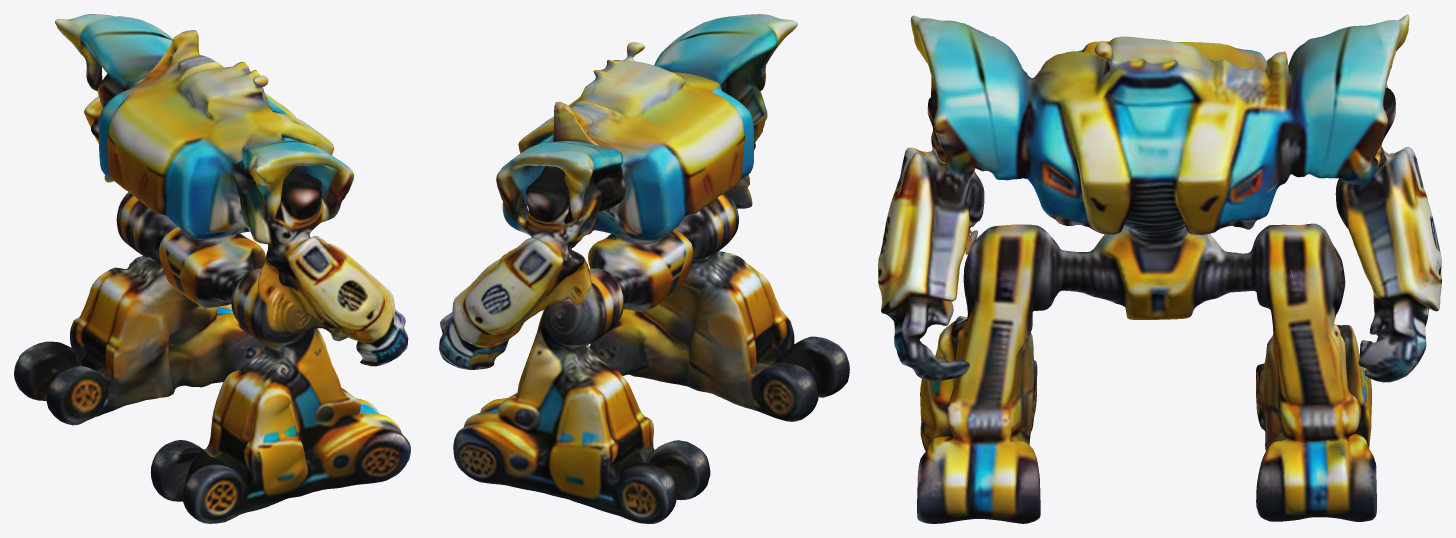
The picture shows the model from 3 angles, left to right: view 1: azimuth 30°, elevation 25°; view 2: azimuth 150°, elevation 25°; view 3: azimuth 270°, elevation 25°; orthographic projection. The views are drawn at different scales.
Visible parts, largest first — view 1: tripo_node_6ba09a43-7c7f-464d-bf64-9191f3120c31; view 2: tripo_node_6ba09a43-7c7f-464d-bf64-9191f3120c31; view 3: tripo_node_6ba09a43-7c7f-464d-bf64-9191f3120c31.
Part boxes in pixels (x1,y1,x2,y2): tripo_node_6ba09a43-7c7f-464d-bf64-9191f3120c31: [14, 14, 410, 523]; tripo_node_6ba09a43-7c7f-464d-bf64-9191f3120c31: [439, 14, 849, 523]; tripo_node_6ba09a43-7c7f-464d-bf64-9191f3120c31: [878, 14, 1441, 523].
Size of the model in its own units: 0.404 by 0.6488 by 0.7321.
Materials: 1 (1 with a texture image).
